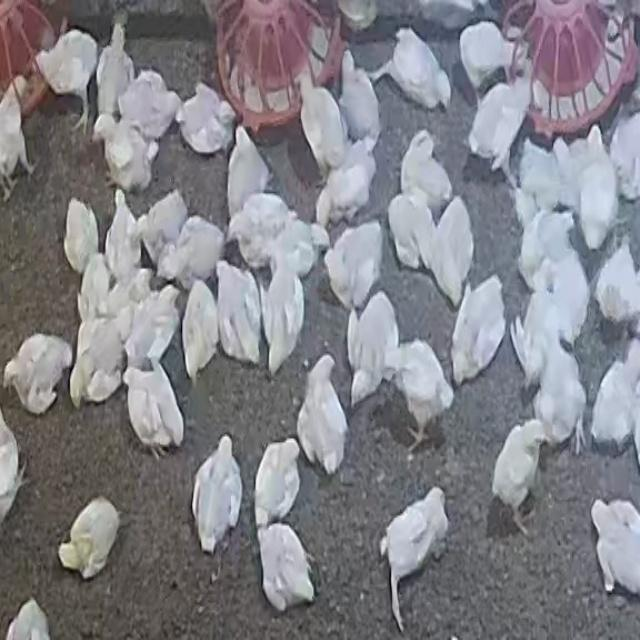chicken: (380, 487, 447, 629), (388, 340, 453, 450), (516, 282, 581, 392), (36, 28, 99, 133), (565, 129, 619, 248), (533, 334, 586, 453), (450, 276, 507, 386), (346, 292, 399, 409), (587, 342, 640, 458), (379, 28, 453, 111), (122, 360, 184, 459), (314, 137, 379, 231), (467, 78, 529, 176), (192, 437, 243, 555), (296, 358, 346, 478), (492, 421, 547, 530), (69, 310, 128, 410), (516, 204, 580, 293), (324, 220, 384, 312), (256, 521, 316, 613), (261, 256, 306, 375), (214, 258, 261, 370), (122, 283, 181, 372), (58, 497, 120, 581), (589, 498, 640, 600), (4, 334, 69, 414), (429, 196, 474, 308), (160, 216, 226, 291), (459, 19, 527, 89), (295, 78, 346, 171), (94, 20, 134, 136), (229, 192, 291, 266), (120, 70, 182, 144), (254, 439, 302, 531), (338, 53, 384, 147), (226, 128, 271, 221), (178, 82, 236, 154), (400, 128, 450, 210), (139, 190, 189, 272), (544, 248, 588, 340), (102, 115, 152, 194), (391, 193, 438, 277), (594, 241, 640, 325), (102, 191, 142, 287), (0, 87, 33, 192), (271, 216, 326, 278), (516, 139, 564, 210), (184, 280, 216, 378), (62, 197, 100, 277), (609, 110, 640, 202), (78, 256, 113, 324)
